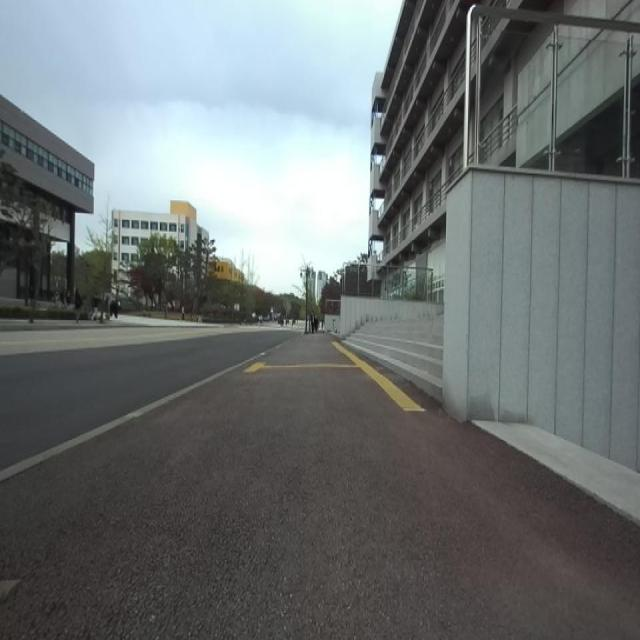sidewalk: (0, 336, 640, 639), (0, 357, 254, 482), (0, 581, 19, 601)
